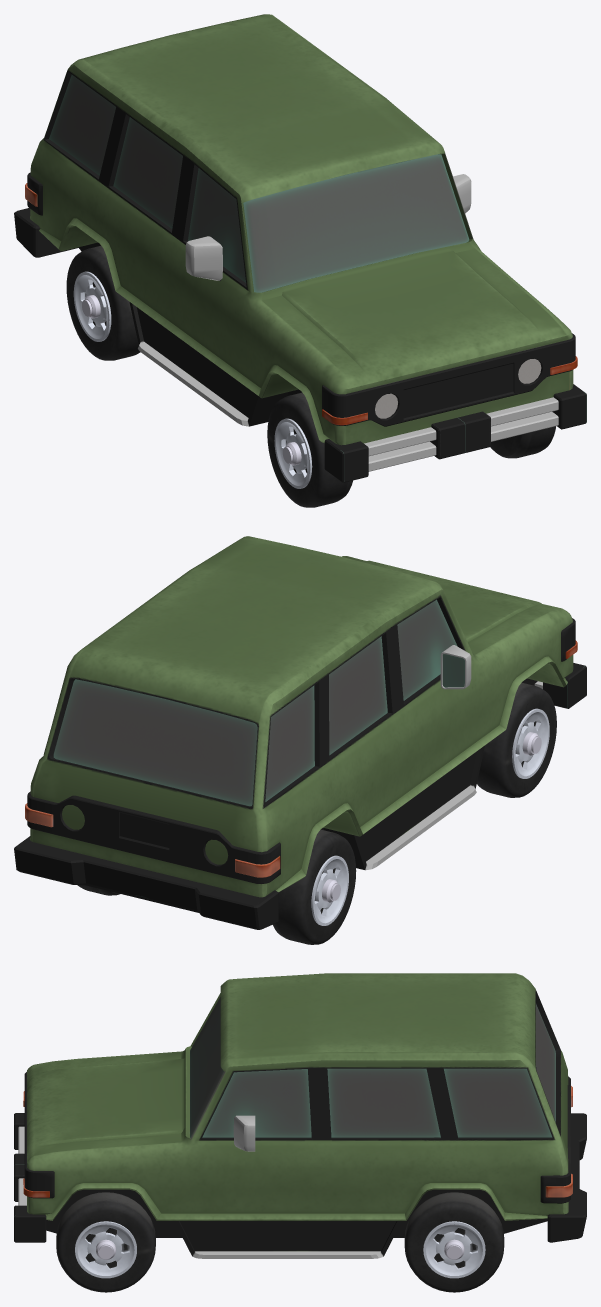
File: Car_Model_02.fbx
3 views of the same model, one above another, from view 1: azimuth 30°, elevation 25°; view 2: azimuth 150°, elevation 25°; view 3: azimuth 270°, elevation 25° (orthographic). The views are drawn at different scales.
Visible parts, largest first — view 1: Cube.008, Cylinder.003, Cube.014, Cube.012, Cube.009, Cube.011, Cube.013; view 2: Cube.008, Cylinder.003, Cube.015, Cube.013, Cube.009, Cube.011, Cube.012; view 3: Cube.008, Cylinder.003, Cube.009, Cube.010, Cube.013, Cube.012, Cube.015, Cube.014, Cube.011.
Boxes of the visible parts, bbox=[...] form: Cube.008: bbox=[30, 14, 573, 445]; Cylinder.003: bbox=[66, 245, 555, 507]; Cube.014: bbox=[322, 333, 577, 426]; Cube.012: bbox=[324, 384, 586, 482]; Cube.009: bbox=[129, 302, 288, 426]; Cube.011: bbox=[185, 174, 471, 280]; Cube.013: bbox=[14, 208, 78, 257]; Cube.008: bbox=[30, 536, 573, 897]; Cylinder.003: bbox=[77, 682, 556, 944]; Cube.015: bbox=[25, 791, 280, 883]; Cube.013: bbox=[14, 836, 278, 929]; Cube.009: bbox=[323, 745, 484, 870]; Cube.011: bbox=[440, 645, 471, 689]; Cube.012: bbox=[534, 663, 586, 708]; Cube.008: bbox=[27, 973, 568, 1220]; Cylinder.003: bbox=[56, 1192, 504, 1292]; Cube.009: bbox=[174, 1221, 401, 1258]; Cube.010: bbox=[46, 1189, 547, 1237]; Cube.013: bbox=[547, 1113, 586, 1242]; Cube.012: bbox=[14, 1113, 46, 1242]; Cube.015: bbox=[540, 1076, 572, 1203]; Cube.014: bbox=[23, 1072, 54, 1198]; Cube.011: bbox=[233, 1115, 255, 1151].
Size of the model in its own units: 1.5 by 1.38 by 3.06.
